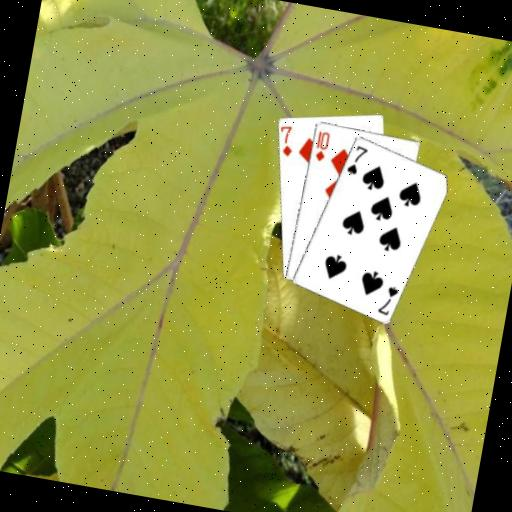10D: (310, 127, 331, 163)
7D: (273, 121, 297, 159)
7S: (342, 141, 370, 178), (373, 280, 400, 318)
